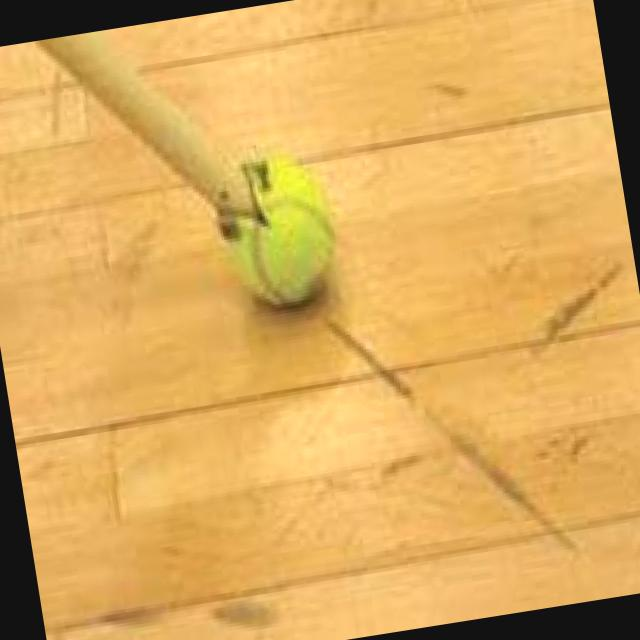tennis-ball: (214, 142, 348, 314)
